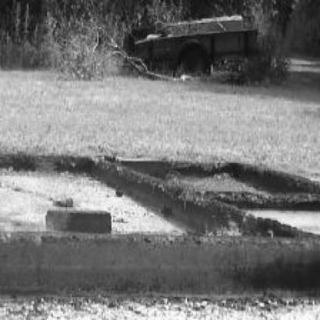Fire: (210, 216, 242, 238), (0, 216, 17, 242)
